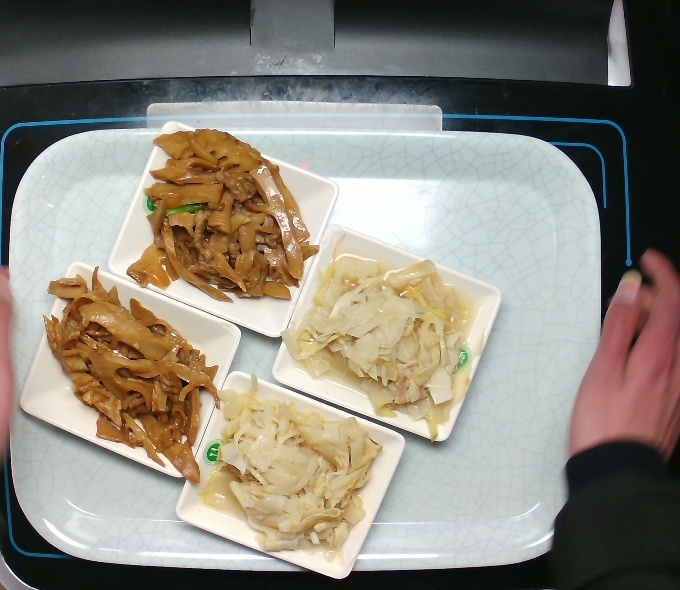wcq-LuSun: (281, 228, 481, 450), (213, 367, 389, 559)
wcq-SunGan: (36, 264, 224, 490), (123, 125, 321, 307)
